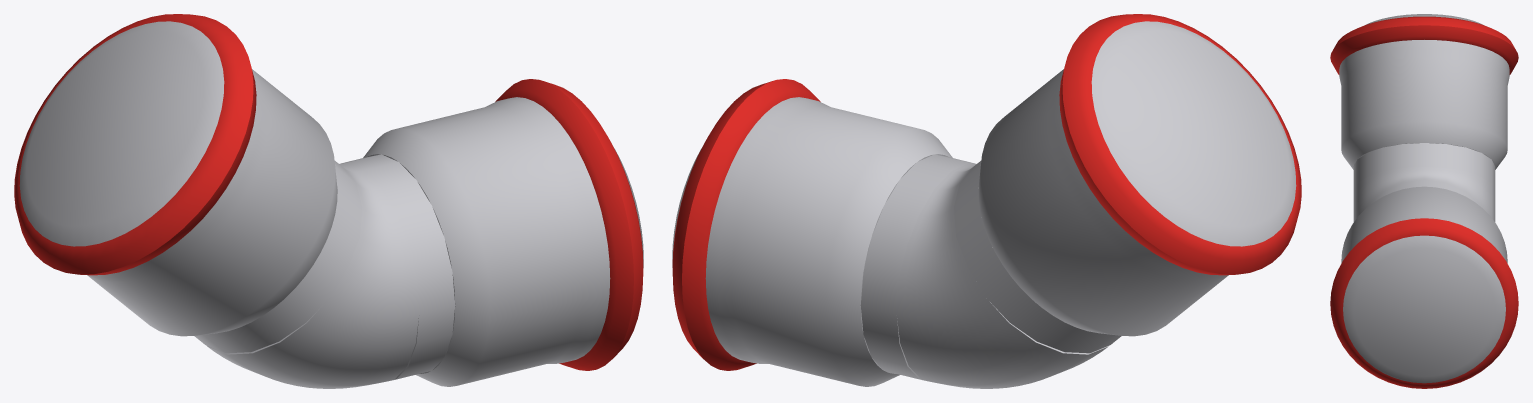
Rendered from fitting_e45_28_r.glb.
3 views of the same model, side by side, from view 1: azimuth 30°, elevation 25°; view 2: azimuth 150°, elevation 25°; view 3: azimuth 270°, elevation 25° (orthographic). The views are drawn at different scales.
Visible parts, largest first — view 1: раструб.001, раструб, изгиб, кольцо пресс.001, кольцо пресс, корпус, корпус.001; view 2: раструб.001, раструб, изгиб, кольцо пресс.001, кольцо пресс, корпус, корпус.001; view 3: раструб, раструб.001, кольцо пресс, кольцо пресс.001, корпус.001, изгиб, корпус.
Boxes of the visible parts, left/top/right/bottom form: раструб.001: left=19, top=21, right=337, bottom=336; раструб: left=363, top=97, right=643, bottom=386; изгиб: left=206, top=163, right=419, bottom=388; кольцо пресс.001: left=14, top=14, right=256, bottom=275; кольцо пресс: left=495, top=79, right=643, bottom=370; корпус: left=339, top=154, right=455, bottom=379; корпус.001: left=194, top=161, right=362, bottom=353; раструб.001: left=978, top=21, right=1296, bottom=336; раструб: left=672, top=97, right=952, bottom=386; изгиб: left=896, top=163, right=1109, bottom=388; кольцо пресс.001: left=1059, top=14, right=1301, bottom=275; кольцо пресс: left=672, top=79, right=820, bottom=370; корпус: left=860, top=154, right=976, bottom=379; корпус.001: left=954, top=161, right=1121, bottom=353; раструб: left=1341, top=186, right=1507, bottom=383; раструб.001: left=1339, top=14, right=1509, bottom=169; кольцо пресс: left=1330, top=218, right=1518, bottom=388; кольцо пресс.001: left=1330, top=16, right=1518, bottom=74; корпус.001: left=1353, top=143, right=1495, bottom=190; изгиб: left=1353, top=167, right=1495, bottom=221; корпус: left=1365, top=179, right=1483, bottom=208.
Size of the model in its own units: 0.0872 by 0.0638 by 0.0412.
